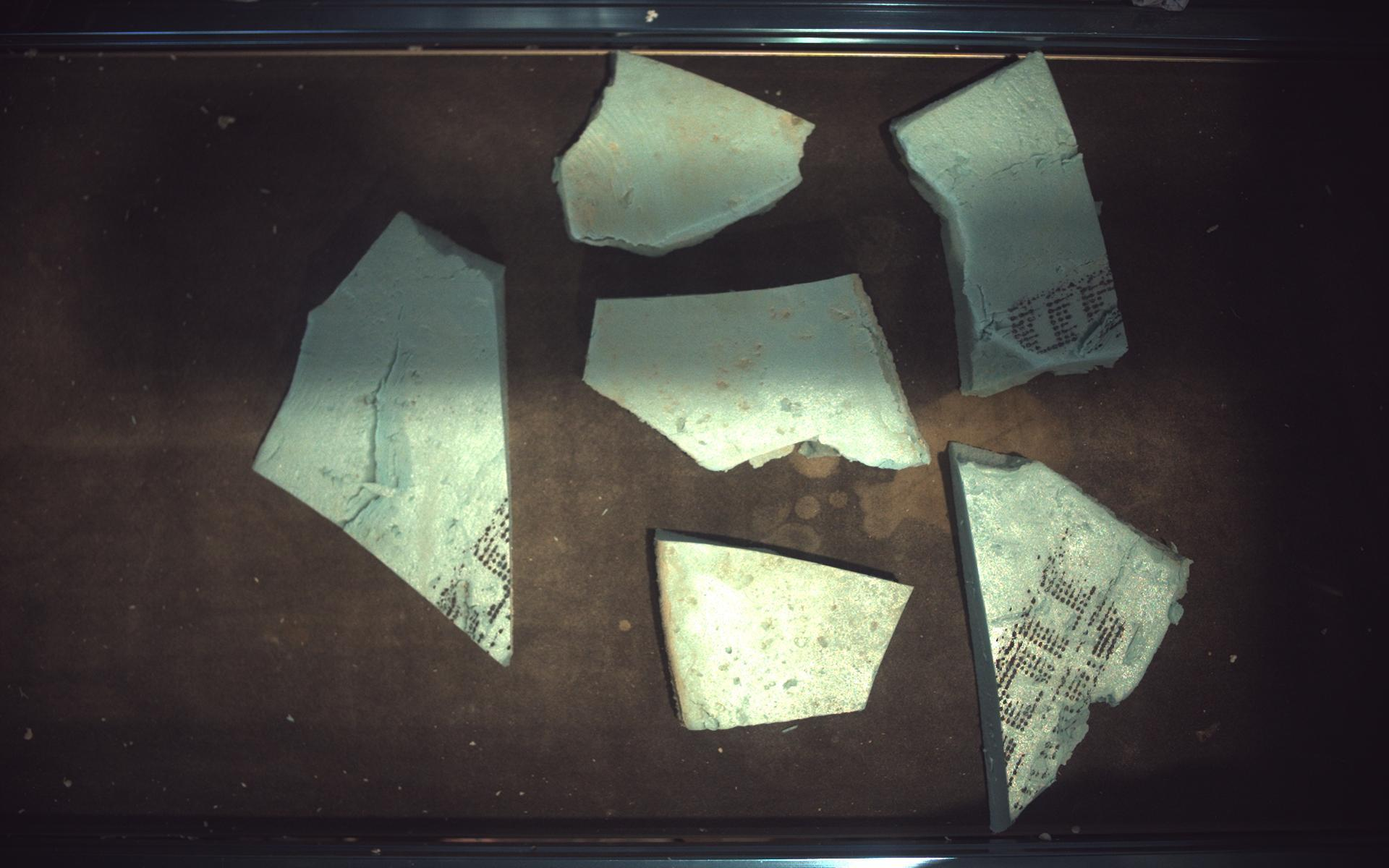foam: (253, 213, 513, 665), (950, 443, 1194, 833), (892, 51, 1130, 396), (584, 273, 930, 471), (553, 50, 815, 255), (656, 532, 914, 731)
